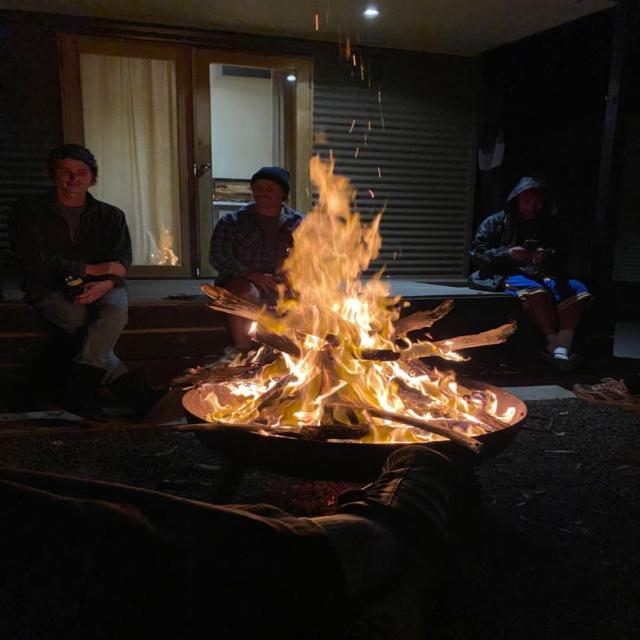fire: (221, 169, 475, 431)
